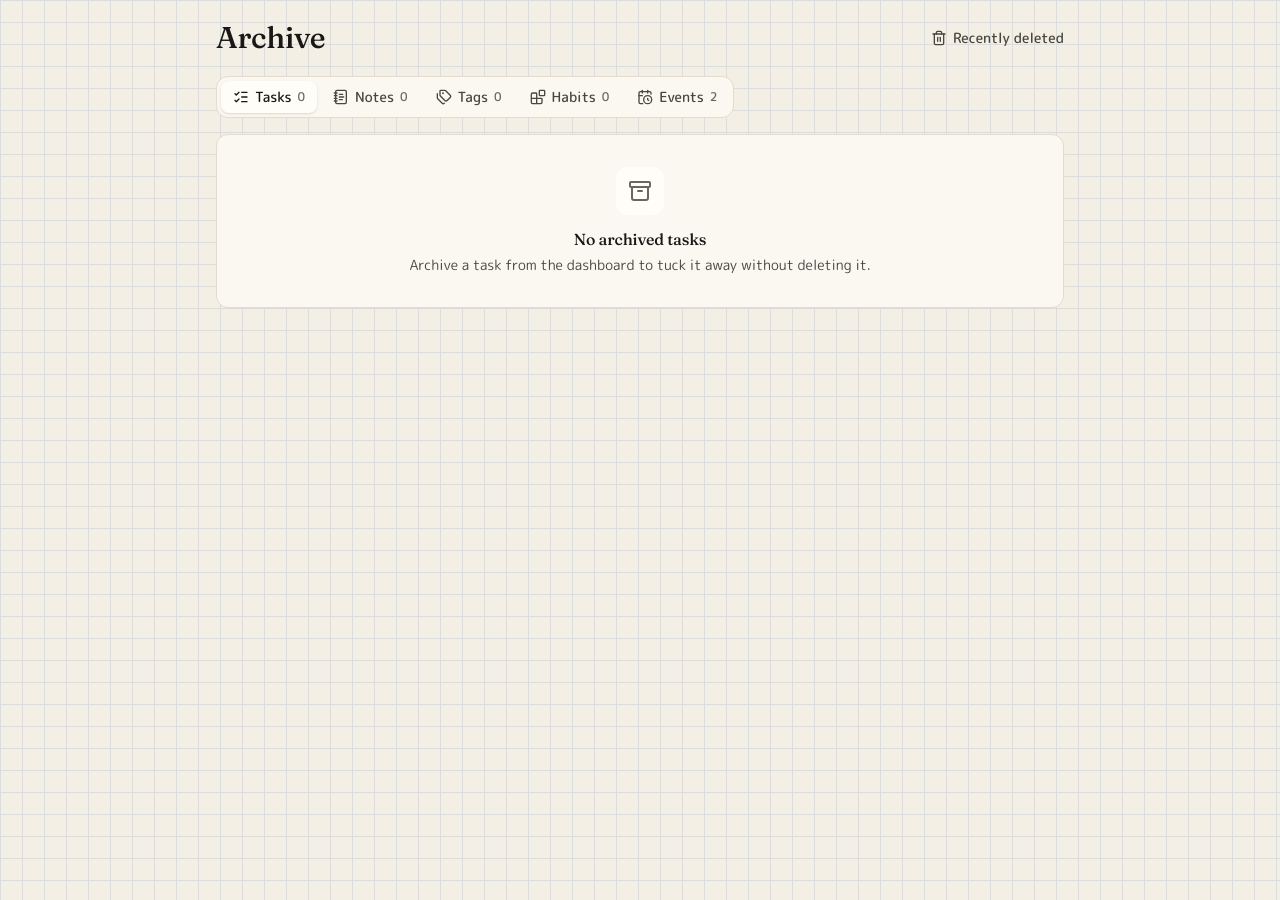
Test: ArchiveView events › restores a whole series, and a single date on its own
The image size is (1280, 900).
Click the tab "Events 2".
click(677, 97)  # box [625,81,729,113]
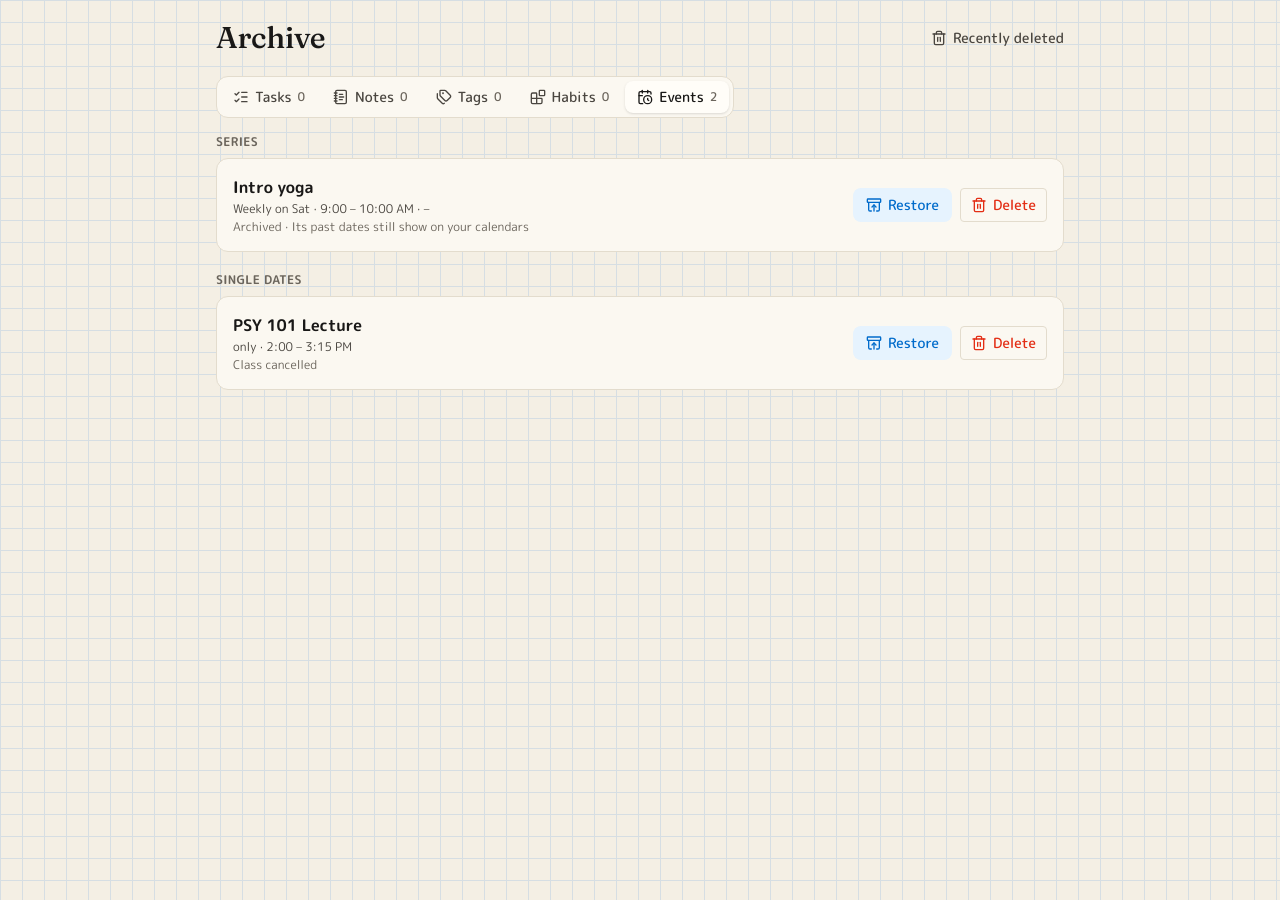
Click the button "Restore" in the row of "Intro yoga".
click(902, 205)  # box [853,188,952,222]
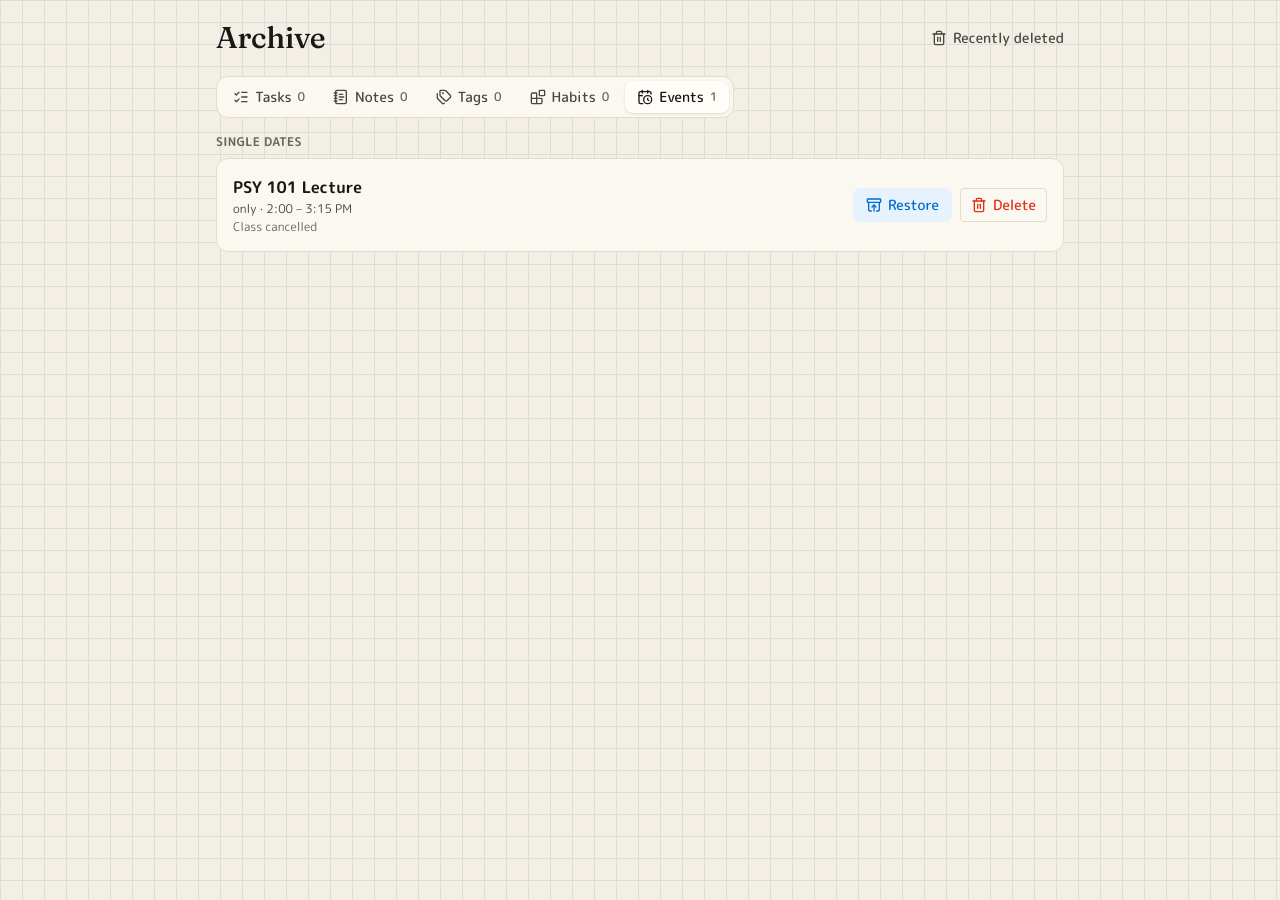
Click the button "Restore".
click(902, 205)  # box [853,188,952,222]
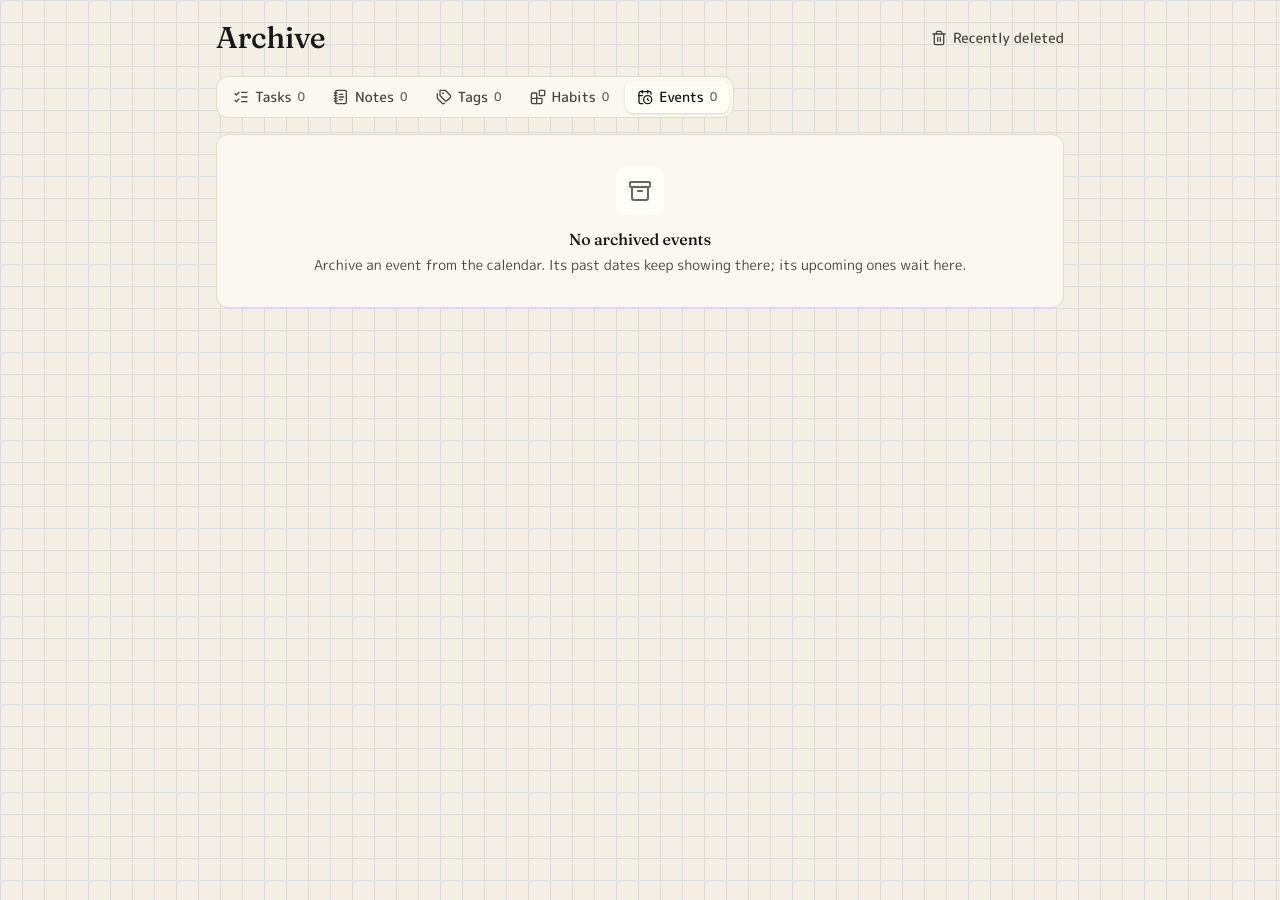
expect the text "No archived events" is shown: met, box [569,229,711,249]
